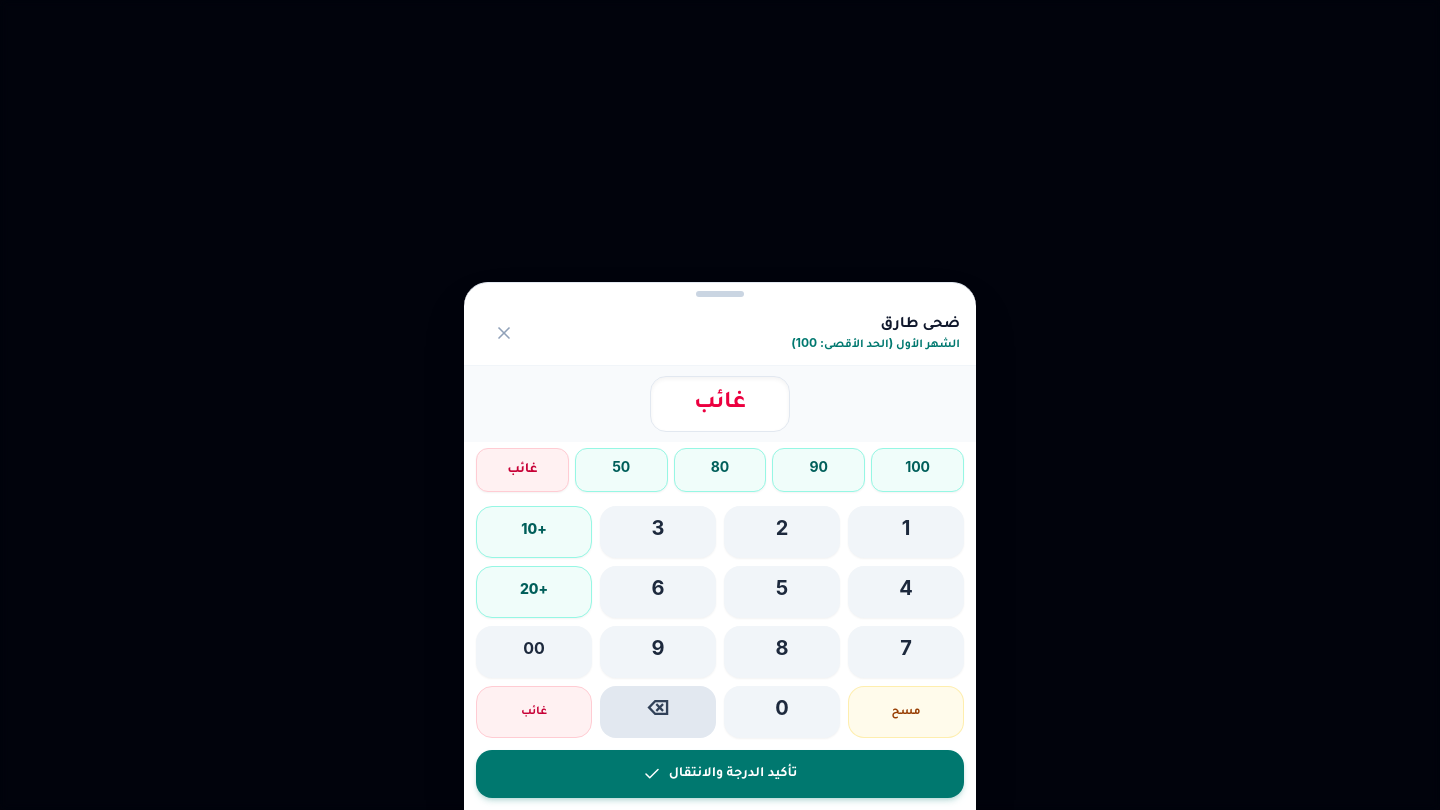
Scenario: Adversarial Stress Test Suite: Milestone 3 Interactive Components › BottomSheetKeypad: Adversarial Inputs & Boundary Handling › absent (غائب) toggle and transition behaviors
The width and height of the screenshot is (1440, 810).
Expected: the element showing "غائب" is shown, top-left (650, 376), bottom-right (790, 432)
# Typing a digit clears absent state and sets digit
Click the button named "رقم 7". click: coordinates (906, 652)
box: top-left (848, 626), bottom-right (964, 678)
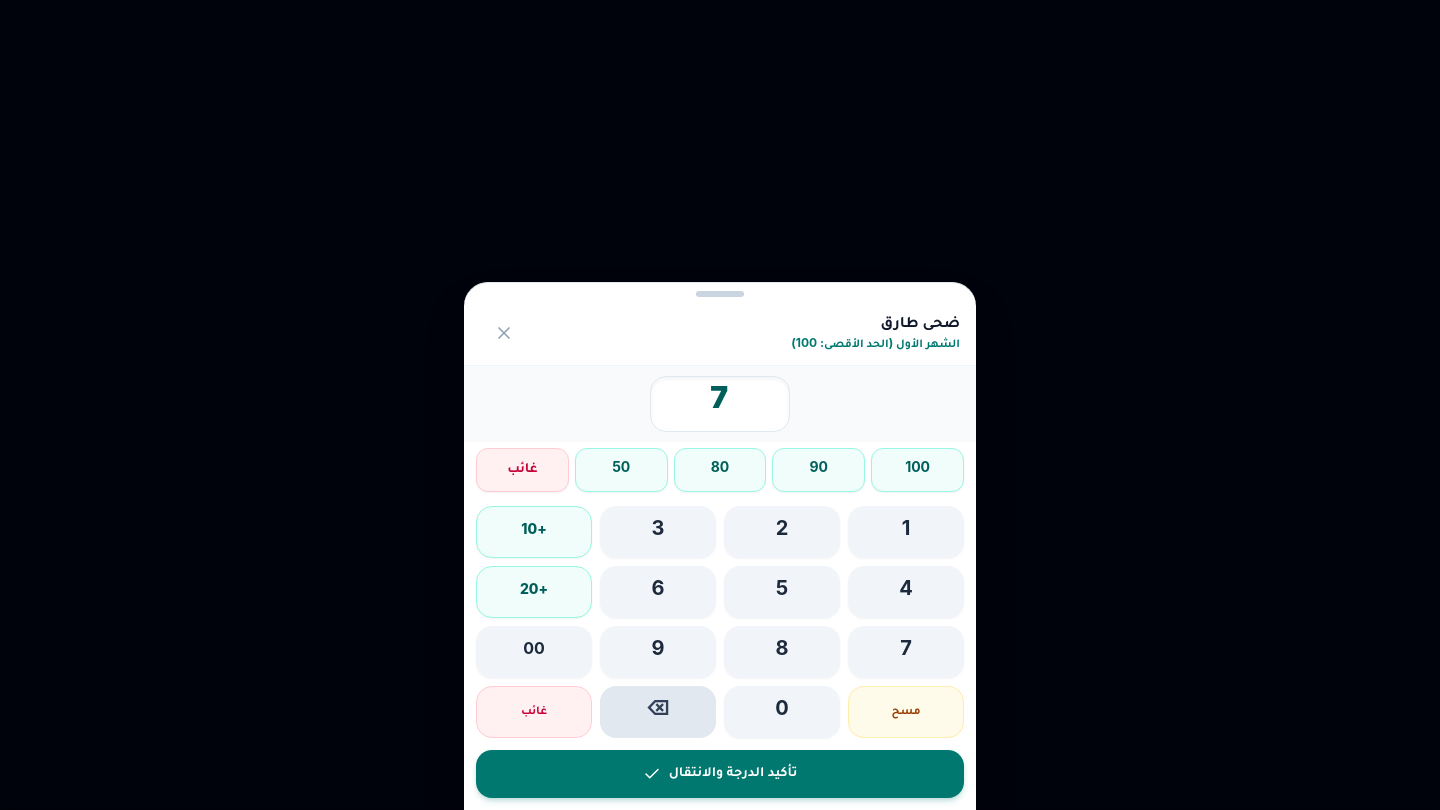
Expected: the element showing "7" is shown, top-left (650, 376), bottom-right (790, 432)
Expected: the text "غائب" is gone
# Clicking 'غائب' preset restores absent status
Click the button with aria-label "درجة سريعة غائب". click: coordinates (522, 470)
box: top-left (476, 448), bottom-right (569, 492)
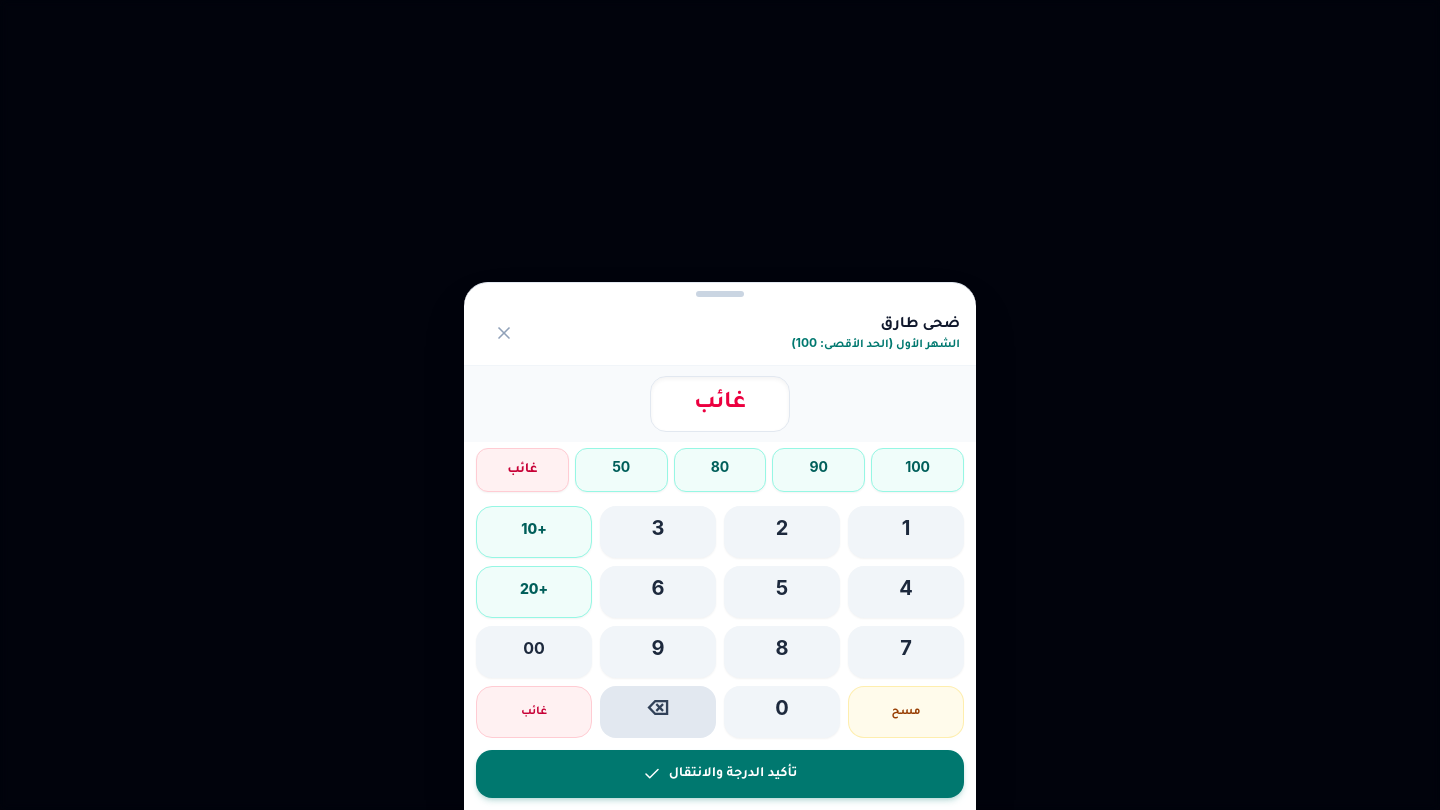
Expected: the element showing "غائب" is shown, top-left (650, 376), bottom-right (790, 432)
Click the button "مسح". click: coordinates (906, 712)
box: top-left (848, 686), bottom-right (964, 738)
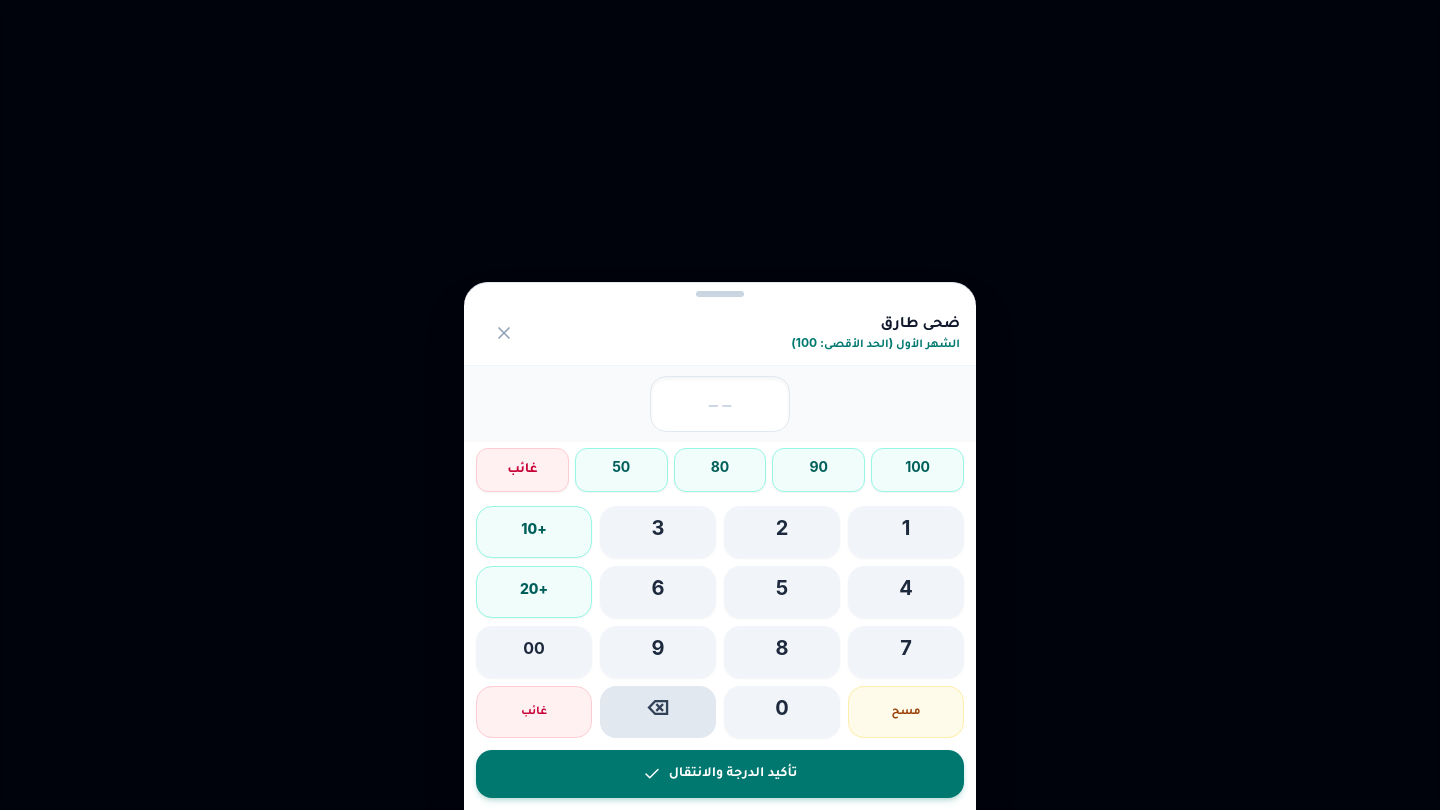
Expected: the element showing "--" is shown, top-left (650, 376), bottom-right (790, 432)
